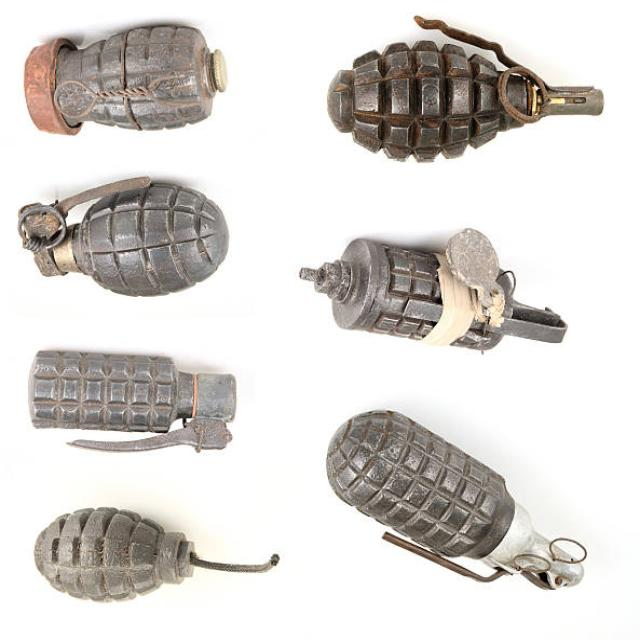grenade: (322, 408, 592, 596), (320, 10, 611, 169), (296, 226, 576, 363), (14, 175, 234, 303), (14, 17, 235, 138), (29, 506, 286, 607), (24, 348, 242, 456)
